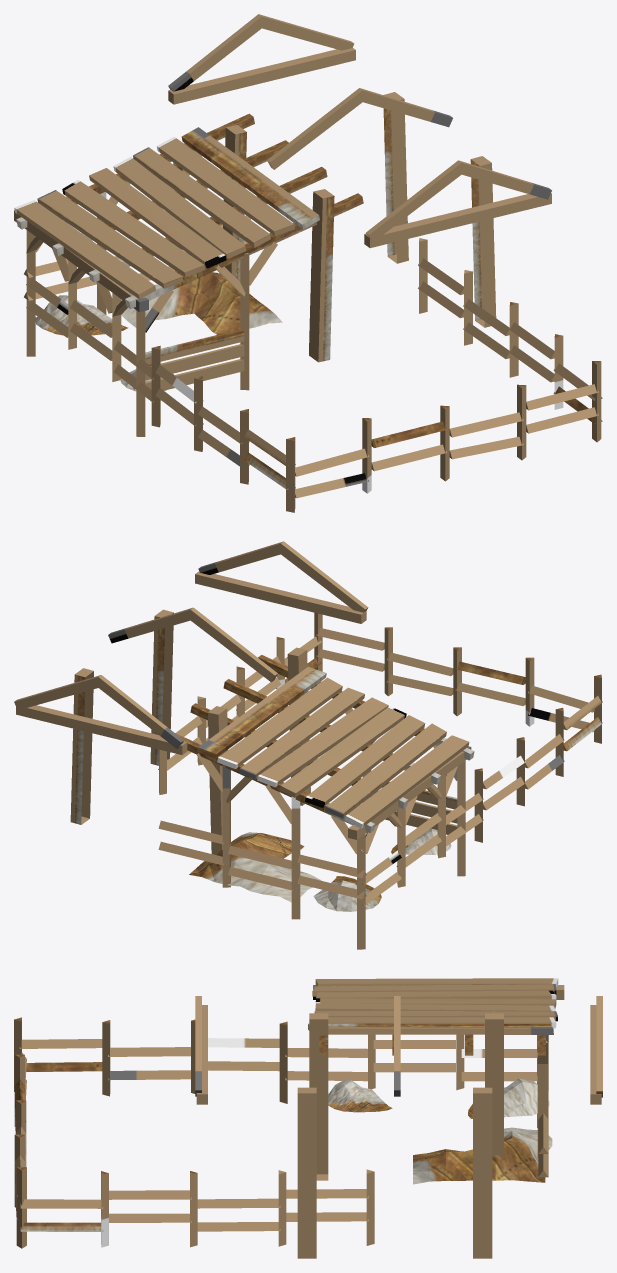
File: rome_corral_wood.dae
3 renders of one model, top to bottom at view 1: azimuth 30°, elevation 25°; view 2: azimuth 150°, elevation 25°; view 3: azimuth 270°, elevation 25°, orthographic. The views are drawn at different scales.
Parts seen in each view (by area): view 1: rome_corral_wood; view 2: rome_corral_wood; view 3: rome_corral_wood.
Boxes of the visible parts, <box> form: rome_corral_wood: <box>14,14,602,512</box>; rome_corral_wood: <box>14,541,602,949</box>; rome_corral_wood: <box>14,978,602,1258</box>.
Size of the model in its own units: 13.88 by 19.42 by 9.36.
